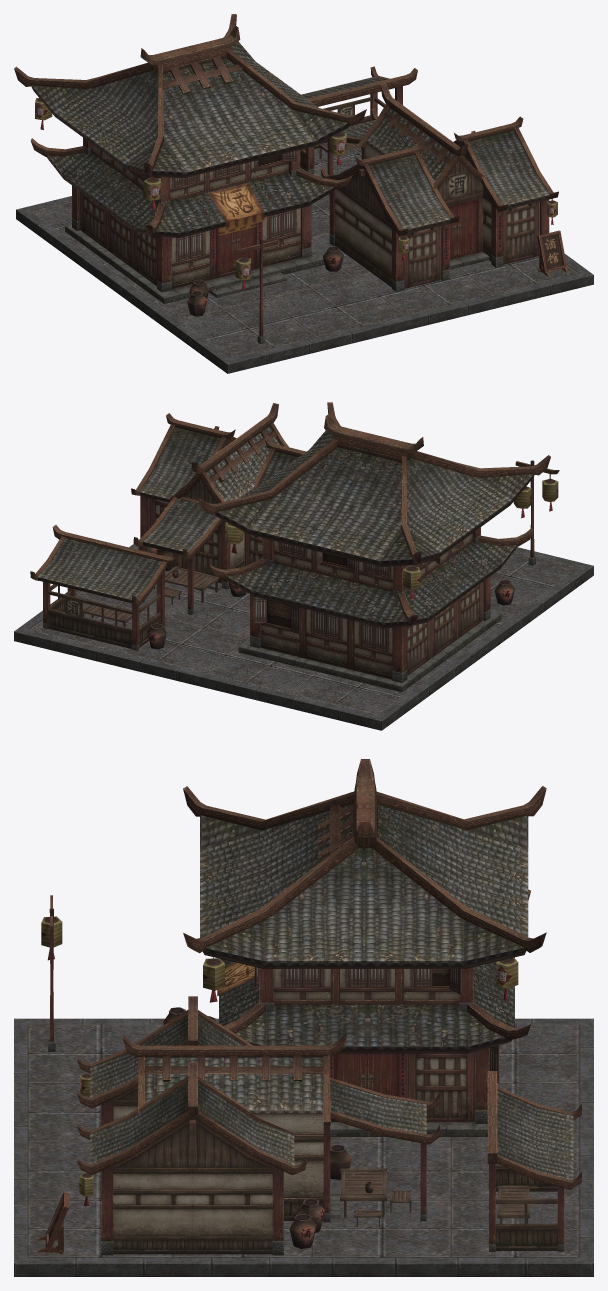
3 views of the same model, one above another, from view 1: azimuth 30°, elevation 25°; view 2: azimuth 150°, elevation 25°; view 3: azimuth 270°, elevation 25° (orthographic). The views are drawn at different scales.
Parts seen in each view (by area): view 1: g_8; view 2: g_8; view 3: g_8.
Part boxes in pixels (x1,y1,x2,y2): g_8: [14, 14, 593, 373]; g_8: [14, 402, 593, 730]; g_8: [14, 759, 593, 1276].
Bounding box in the file's own units: 21.14 × 11.49 × 20.
Materials: 2 (2 with a texture image).
